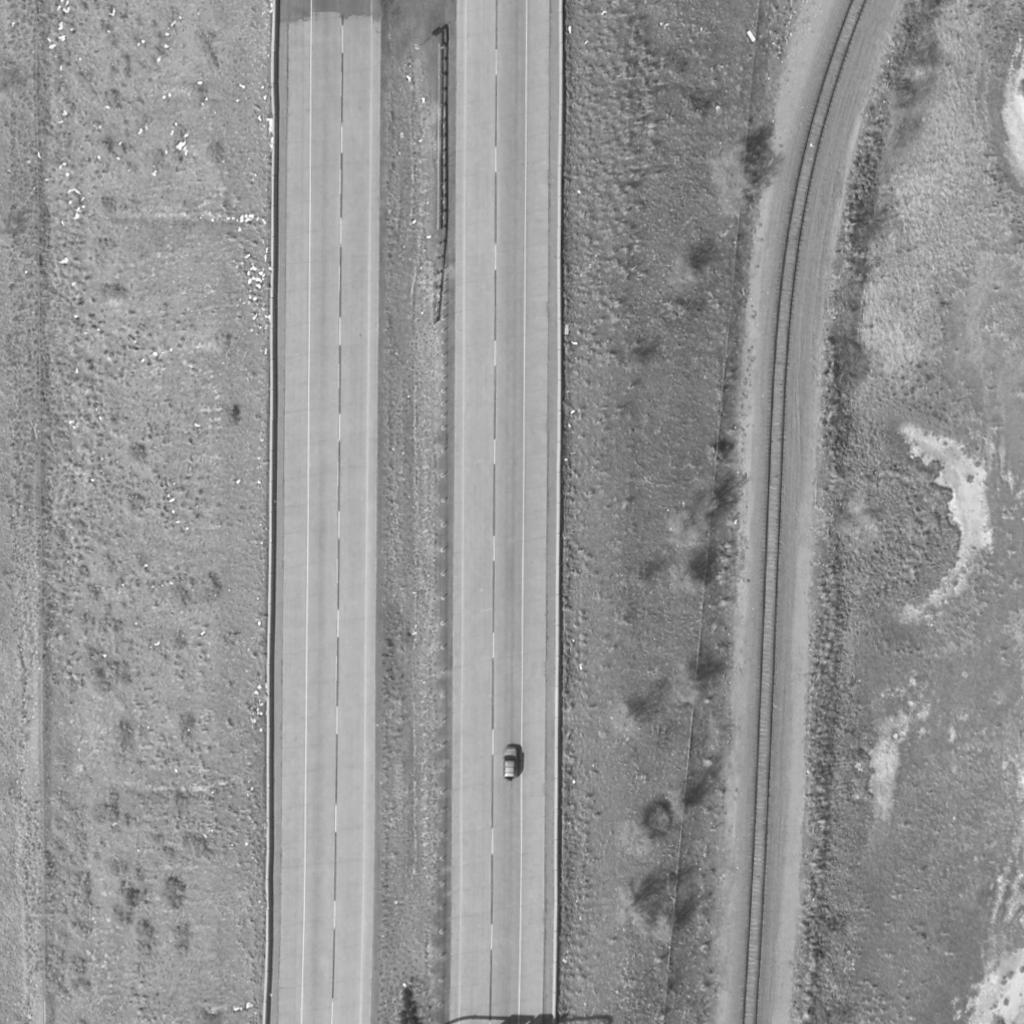vehicle: (502, 746, 524, 782)
